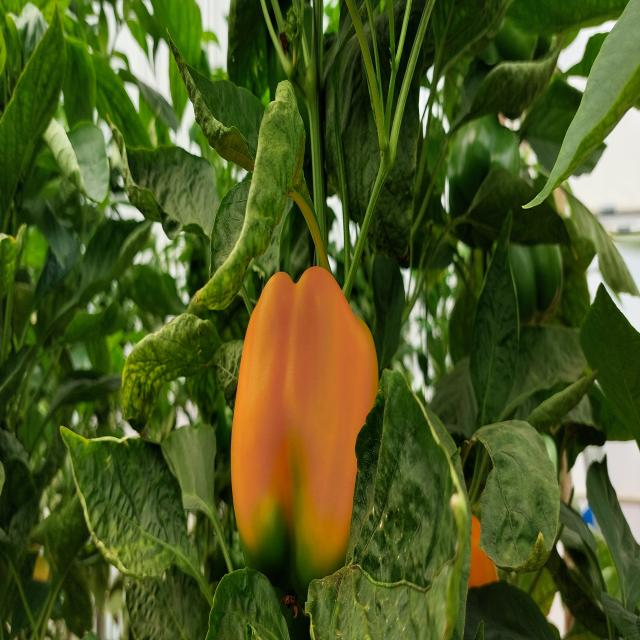Yellow-Ready-to-Harvest: (228, 261, 382, 578)
